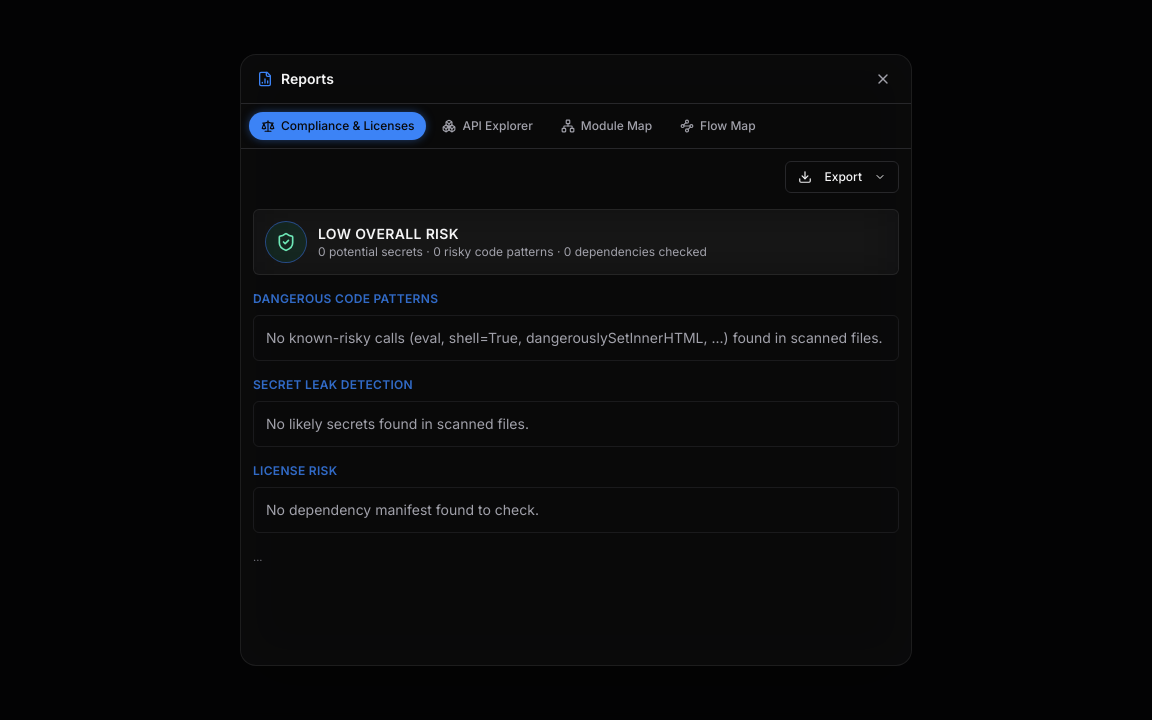
Test: ReportsModal › opens on Compliance & Licenses by default and switches between the four report tabs
This screenshot has width=1152, height=720.
Expected: the text "low overall risk" is shown, x1=318 y1=225 x2=459 y2=242
Click the tab "API Explorer".
click(488, 126)  # box x1=430 y1=112 x2=545 y2=140
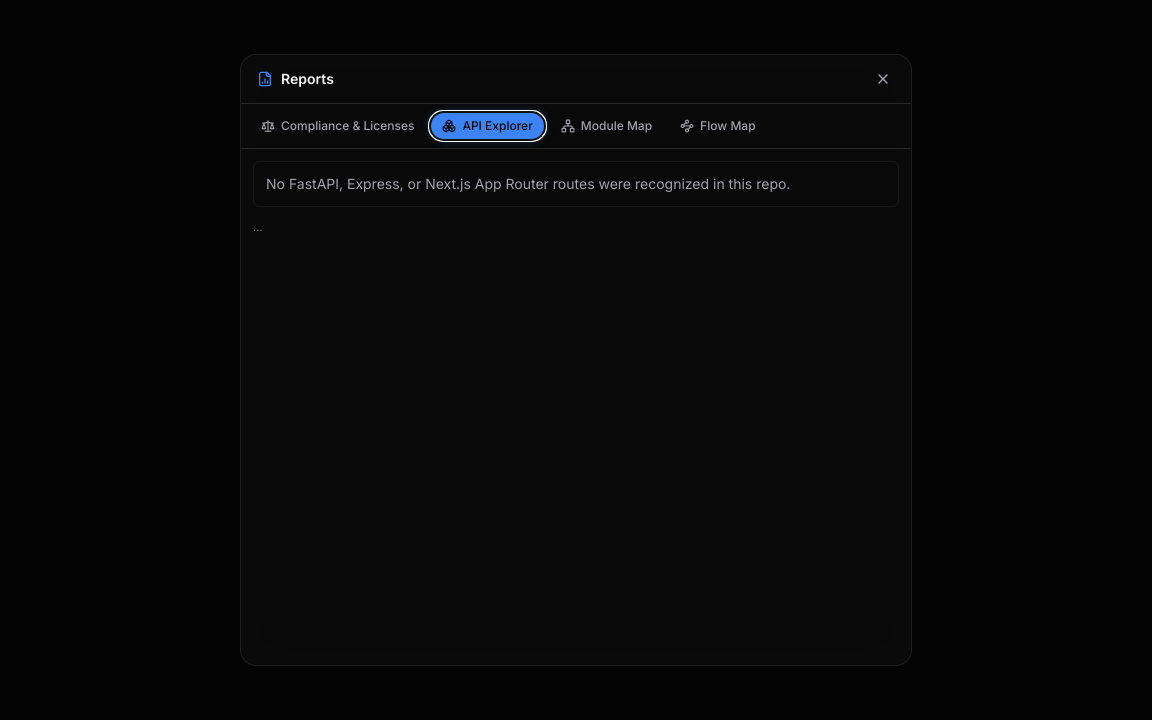
Now the text "No FastAPI, Express, or Next.js" is shown, box x1=266 y1=175 x2=790 y2=192
Click the tab "Module Map".
click(606, 126)  # box x1=549 y1=112 x2=664 y2=140
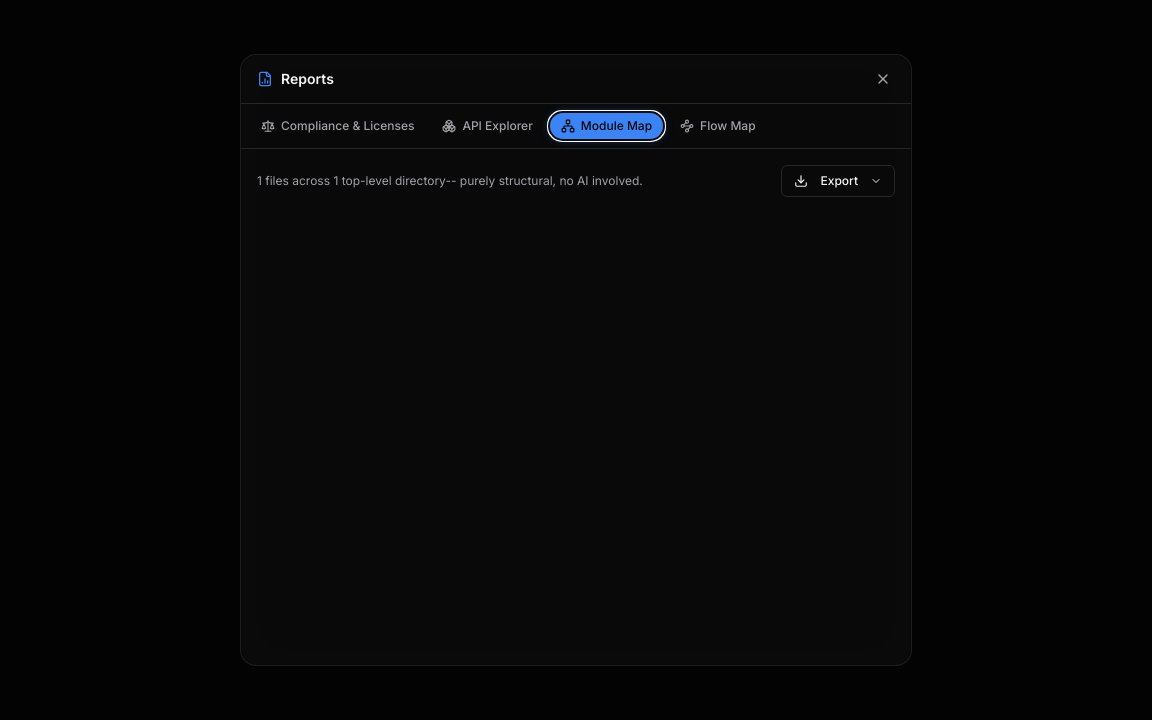
Click the tab "Flow Map".
click(718, 126)  # box x1=668 y1=112 x2=768 y2=140
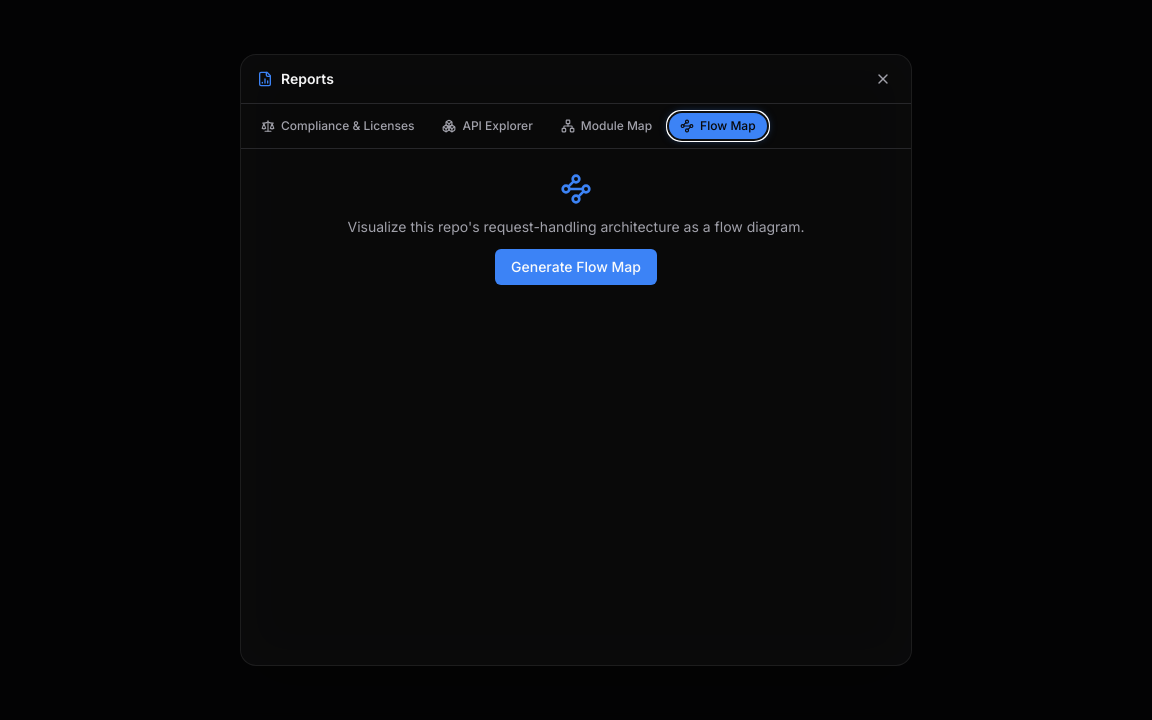
Now the button "Generate Flow Map" is shown, box x1=495 y1=249 x2=657 y2=285
